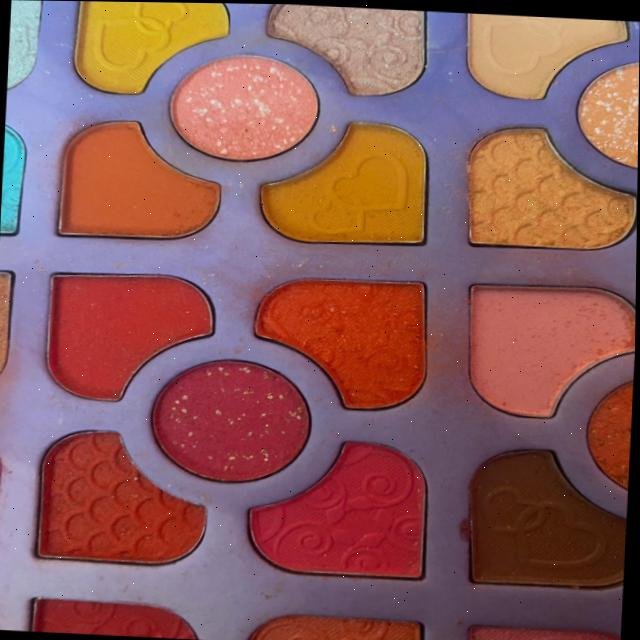eye shade: (233, 420, 453, 592), (14, 421, 223, 576), (250, 266, 451, 421), (439, 269, 637, 426), (247, 103, 449, 255), (448, 435, 631, 601), (29, 261, 226, 409), (453, 115, 639, 263), (133, 347, 324, 489), (46, 111, 226, 249), (158, 42, 321, 165), (262, 3, 442, 109), (456, 10, 640, 111), (55, 1, 241, 95), (20, 587, 230, 640), (562, 44, 640, 173), (572, 363, 635, 510), (231, 601, 438, 640), (450, 606, 623, 640)
